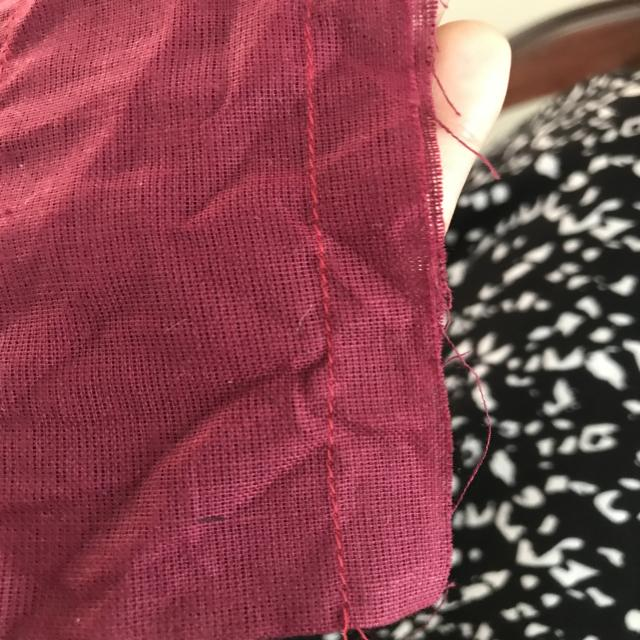good: (293, 129, 343, 205)
